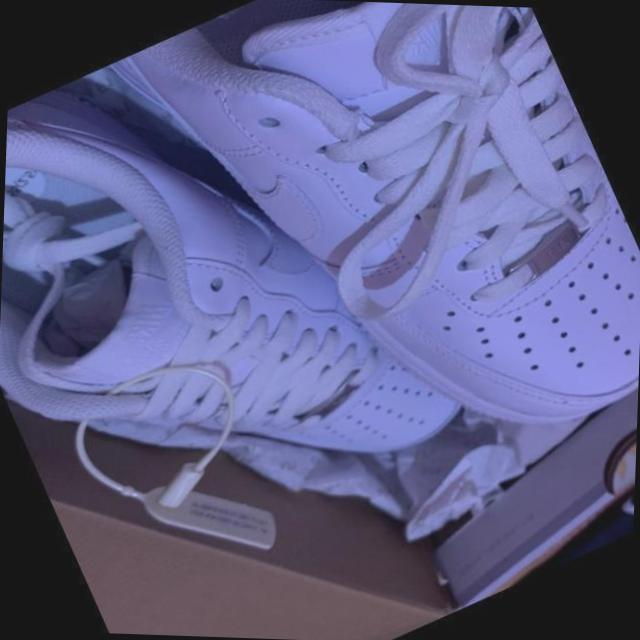nike_original_airforce: (0, 0, 504, 609), (87, 0, 640, 544)
